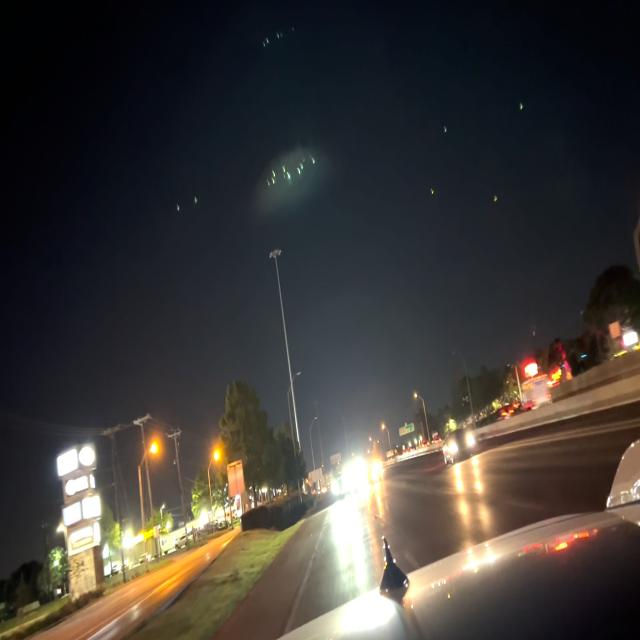back-of-sign: (229, 461, 245, 501)
